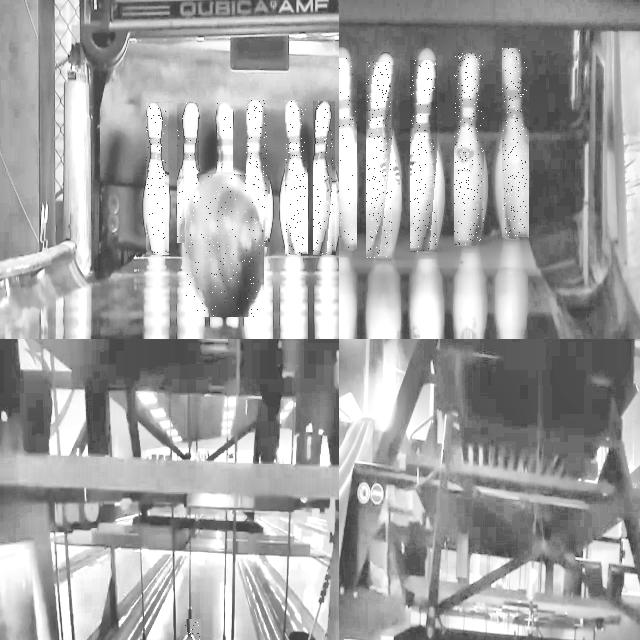bowling-ball: (185, 175, 262, 317)
bowling-pins: (455, 54, 484, 245), (410, 60, 437, 252), (366, 62, 392, 258), (503, 49, 527, 236), (339, 59, 357, 248), (285, 102, 306, 254), (177, 103, 199, 241), (314, 101, 333, 255), (247, 100, 267, 246), (147, 103, 166, 254), (218, 102, 233, 172)
